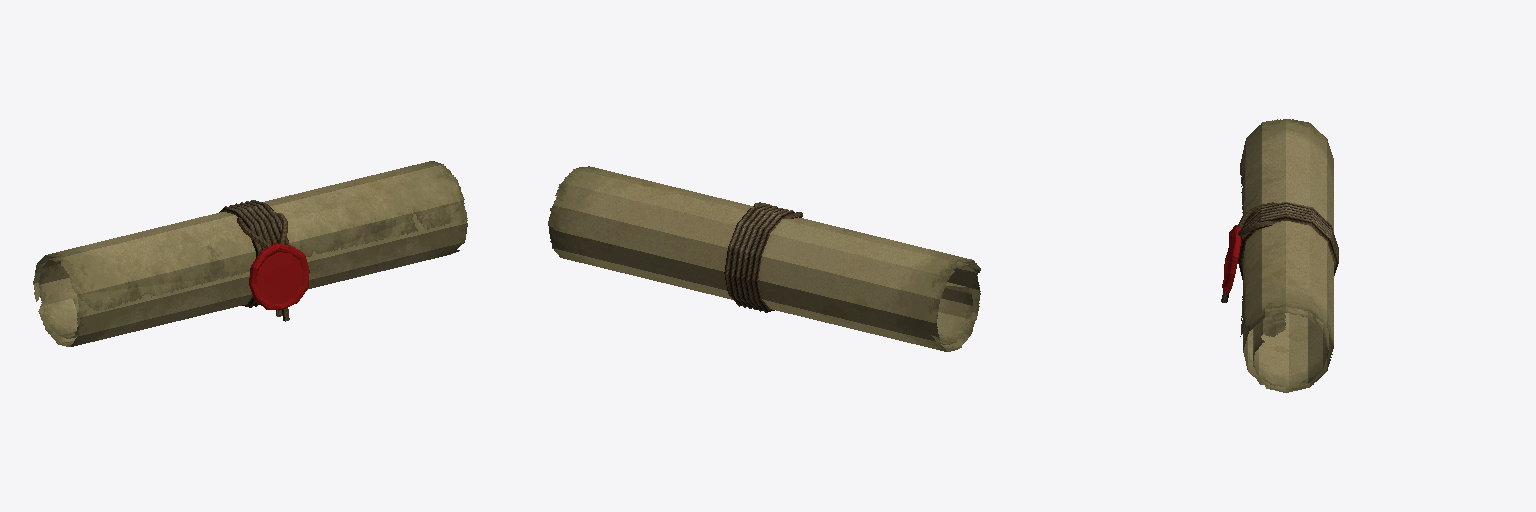
3 renders of one model, left to right at view 1: azimuth 30°, elevation 25°; view 2: azimuth 150°, elevation 25°; view 3: azimuth 270°, elevation 25°, orthographic.
Parts seen in each view (by area): view 1: defaultMaterial; view 2: defaultMaterial; view 3: defaultMaterial.
Part boxes in pixels (bbox=[...]): defaultMaterial: bbox=[33, 161, 467, 346]; defaultMaterial: bbox=[548, 166, 980, 351]; defaultMaterial: bbox=[1221, 119, 1338, 392].
Size of the model in its own units: 2 by 0.4574 by 0.5153.
1 materials, 1 textured.